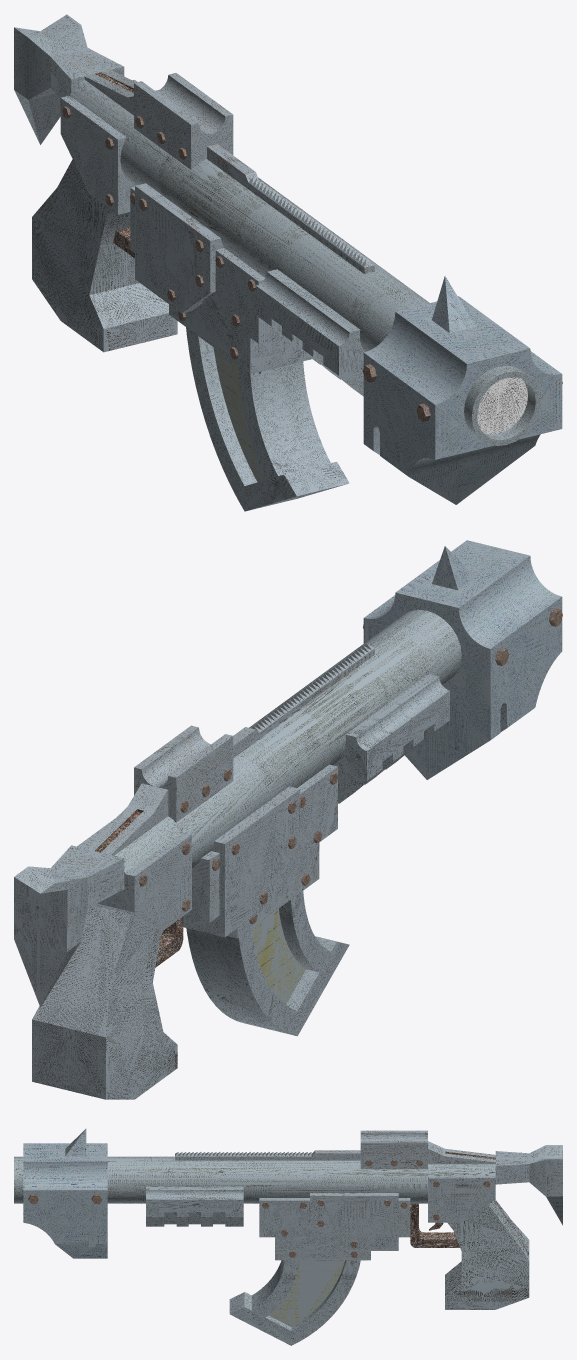
File: Big Gun 1.fbx
3 renders of one model, top to bottom at view 1: azimuth 30°, elevation 25°; view 2: azimuth 150°, elevation 25°; view 3: azimuth 270°, elevation 25°, orthographic. The views are drawn at different scales.
Visible parts, largest first — view 1: Big_Gun_1_Shoota2, Big_Gun_1_Shoota1; view 2: Big_Gun_1_Shoota2, Big_Gun_1_Shoota1; view 3: Big_Gun_1_Shoota1, Big_Gun_1_Shoota2.
Boxes of the visible parts, box(x1,y1,x2,y2) form: Big_Gun_1_Shoota2: box(14, 27, 506, 511); Big_Gun_1_Shoota1: box(40, 14, 562, 504); Big_Gun_1_Shoota2: box(40, 546, 562, 1099); Big_Gun_1_Shoota1: box(14, 540, 497, 1090); Big_Gun_1_Shoota1: box(14, 1128, 562, 1345); Big_Gun_1_Shoota2: box(14, 1129, 562, 1306).
Bounding box in the file's own units: 2.6 × 6.45 × 15.26.
